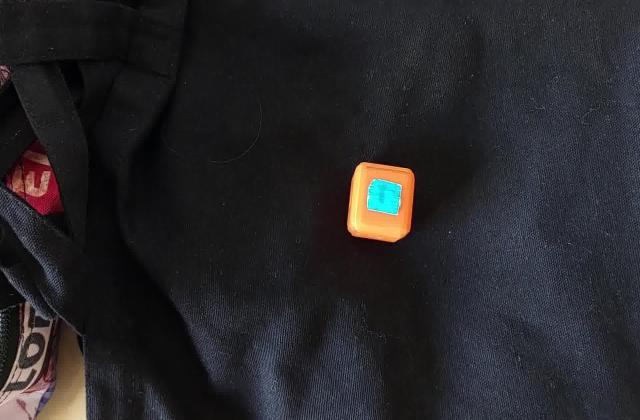blue: (373, 183, 398, 213)
sticker: (344, 160, 416, 245)
